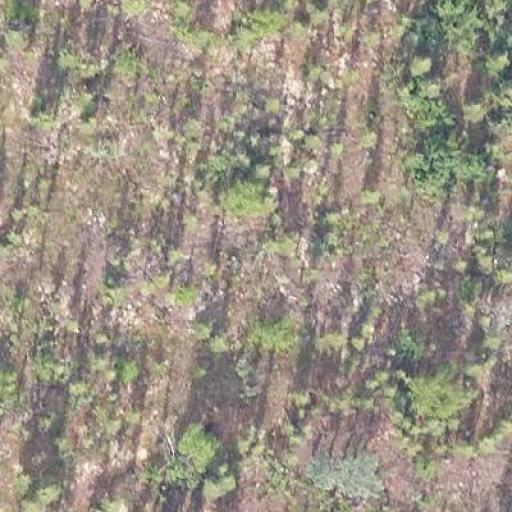tree-top: (304, 442, 390, 499), (415, 132, 489, 188), (398, 74, 461, 134), (404, 362, 466, 418), (30, 337, 77, 394), (219, 174, 269, 222), (173, 419, 223, 467), (478, 217, 512, 286), (436, 3, 486, 46), (246, 312, 301, 351), (50, 41, 106, 78), (236, 8, 293, 38), (202, 463, 238, 505), (0, 15, 34, 56), (397, 15, 436, 49), (479, 50, 512, 80), (487, 104, 512, 140), (34, 470, 62, 502), (411, 49, 439, 79), (462, 95, 486, 126), (305, 1, 329, 30)
